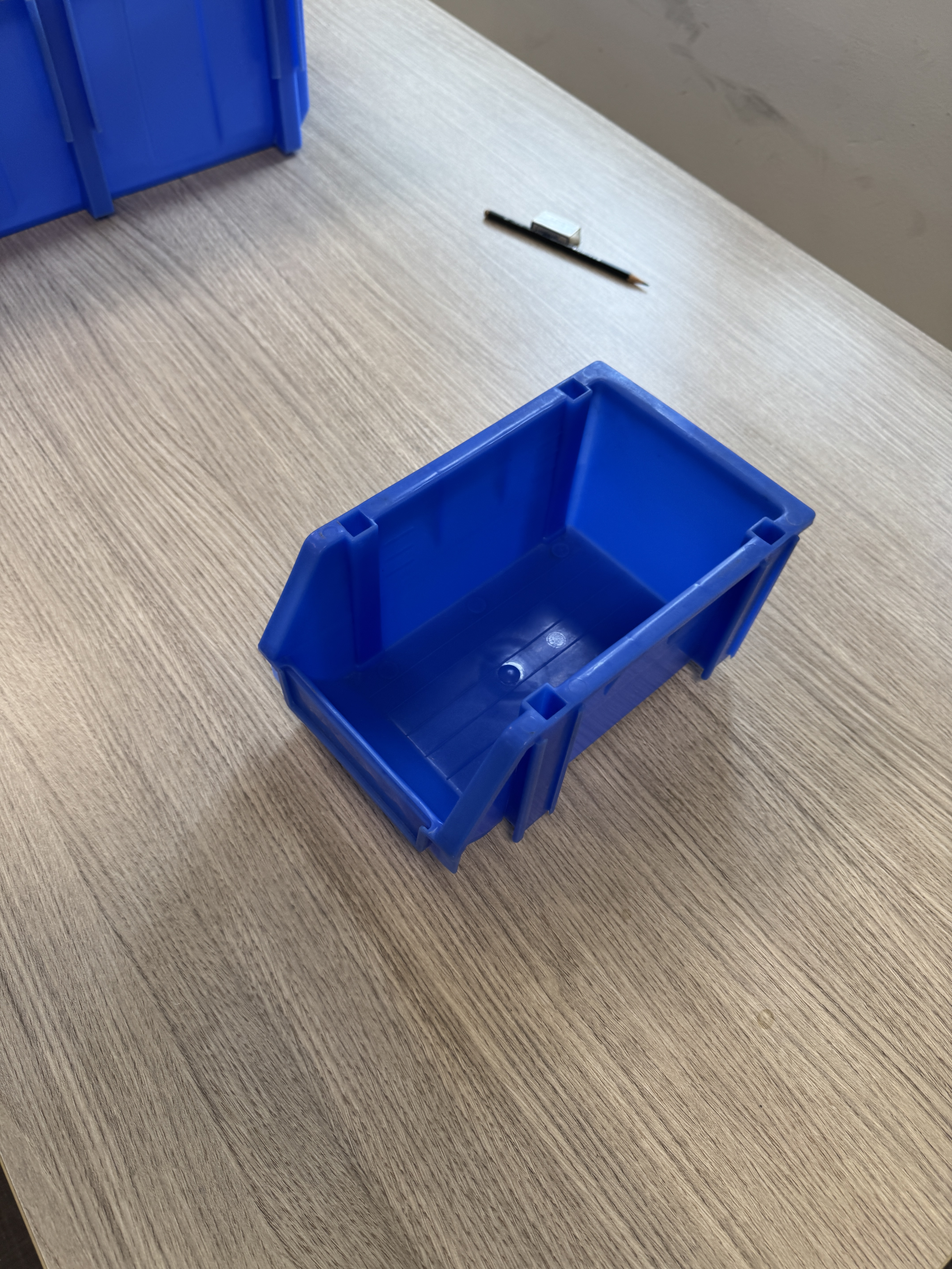Bin Boundary: (258, 306, 791, 832)
